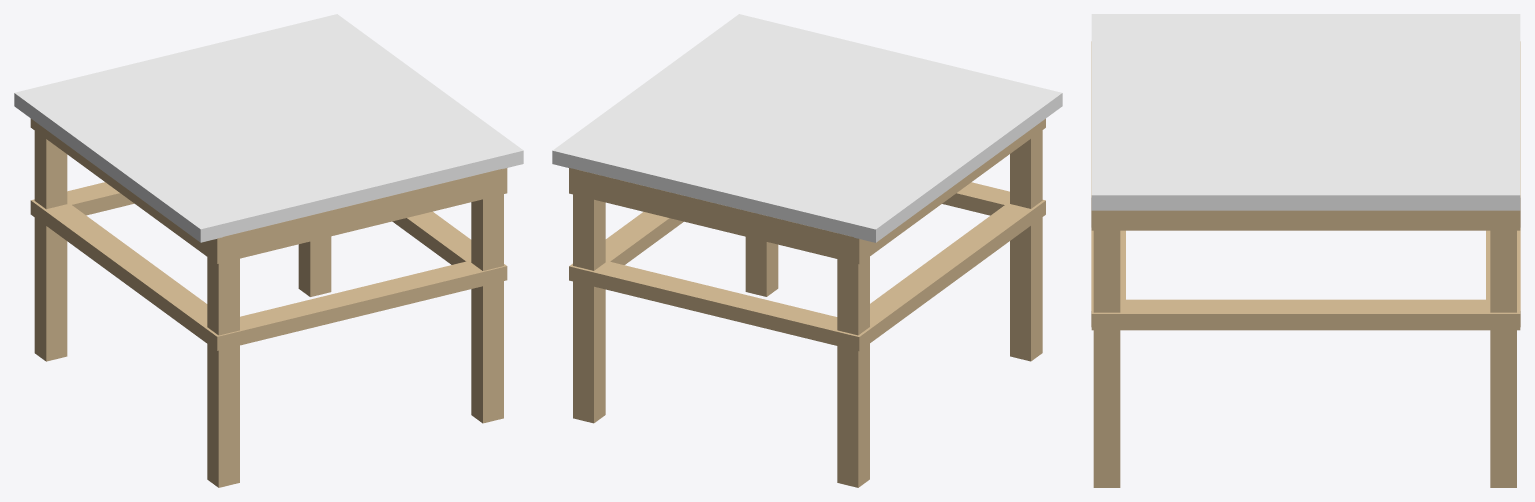
Rendered from küçük masa.fbx.
3 renders of one model, left to right at view 1: azimuth 30°, elevation 25°; view 2: azimuth 150°, elevation 25°; view 3: azimuth 270°, elevation 25°, orthographic. The views are drawn at different scales.
Parts seen in each view (by area): view 1: Cube.001; view 2: Cube.001; view 3: Cube.001.
Boxes of the visible parts, left/top/right/bottom form: Cube.001: left=14, top=14, right=523, bottom=487; Cube.001: left=552, top=14, right=1062, bottom=487; Cube.001: left=1091, top=14, right=1520, bottom=487.
Bounding box in the file's own units: 584 × 456 × 585.
